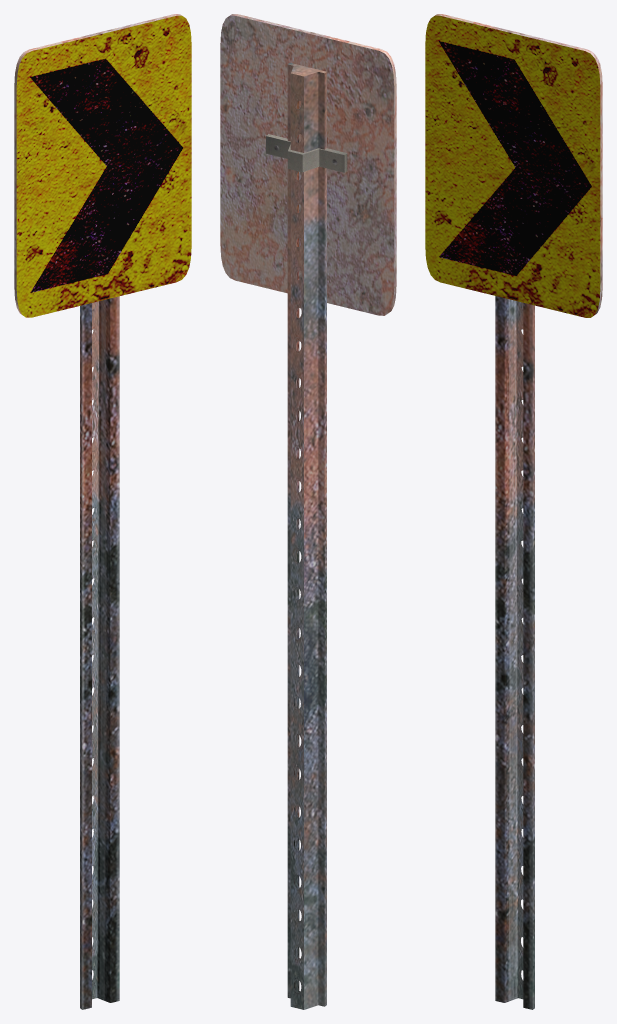
The model's file is Right_arrow_sign.FBX.
3 views of the same model, side by side, from view 1: azimuth 30°, elevation 25°; view 2: azimuth 150°, elevation 25°; view 3: azimuth 330°, elevation 25° (orthographic).
Visible parts, largest first — view 1: Right_arrow_sign; view 2: Right_arrow_sign; view 3: Right_arrow_sign.
Boxes of the visible parts, <box> form: Right_arrow_sign: <box>14,14,191,1009</box>; Right_arrow_sign: <box>220,14,396,1009</box>; Right_arrow_sign: <box>425,14,602,1009</box>.
Bounding box in the file's own units: 52.9 × 281 × 7.97.
